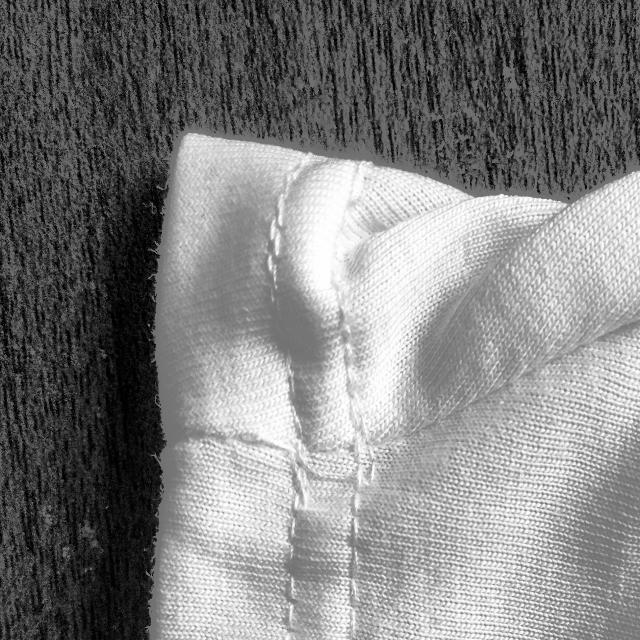Sewing_error: (288, 429, 368, 513)
